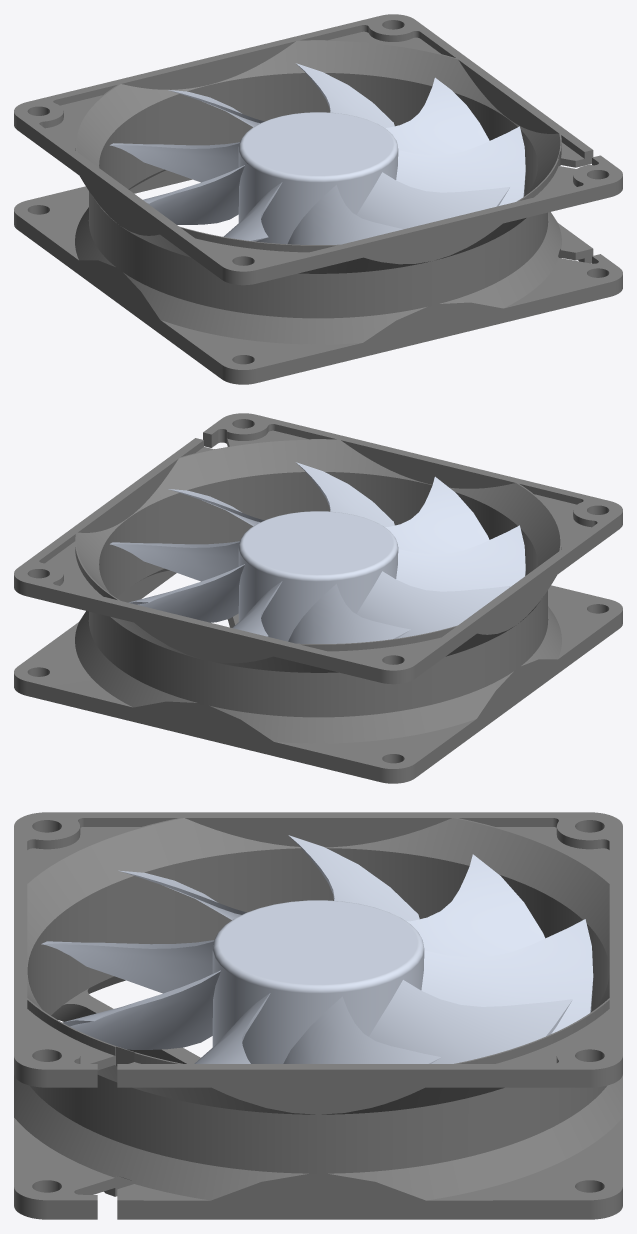
3 views of the same model, one above another, from view 1: azimuth 30°, elevation 25°; view 2: azimuth 150°, elevation 25°; view 3: azimuth 270°, elevation 25° (orthographic). The views are drawn at different scales.
Parts seen in each view (by area): view 1: F9 body_0:1, F9 fan_0:1; view 2: F9 body_0:1, F9 fan_0:1; view 3: F9 body_0:1, F9 fan_0:1.
Boxes of the visible parts, x1,y1,x2,y2 form: F9 body_0:1: (14, 14, 622, 384); F9 fan_0:1: (110, 63, 525, 244); F9 body_0:1: (14, 413, 622, 783); F9 fan_0:1: (110, 462, 525, 643); F9 body_0:1: (14, 812, 622, 1219); F9 fan_0:1: (41, 835, 593, 1063).
Size of the model in its own units: 0.092 by 0.025 by 0.092.
